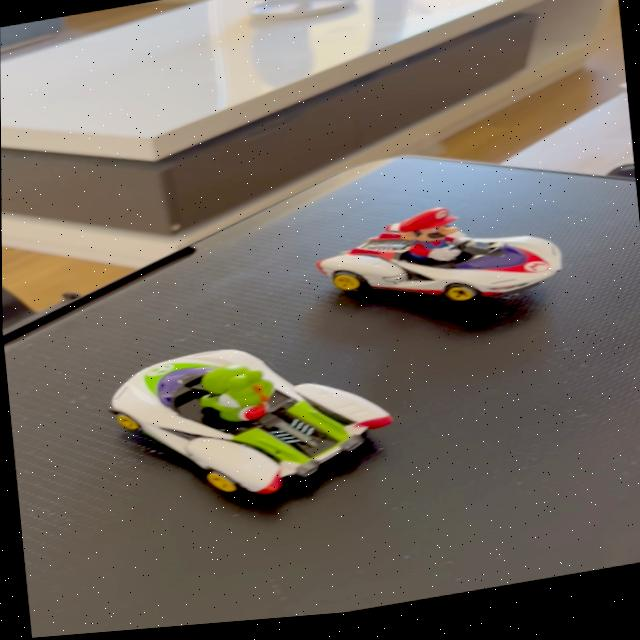mario: (300, 188, 586, 335)
yoshi: (93, 314, 410, 531)
